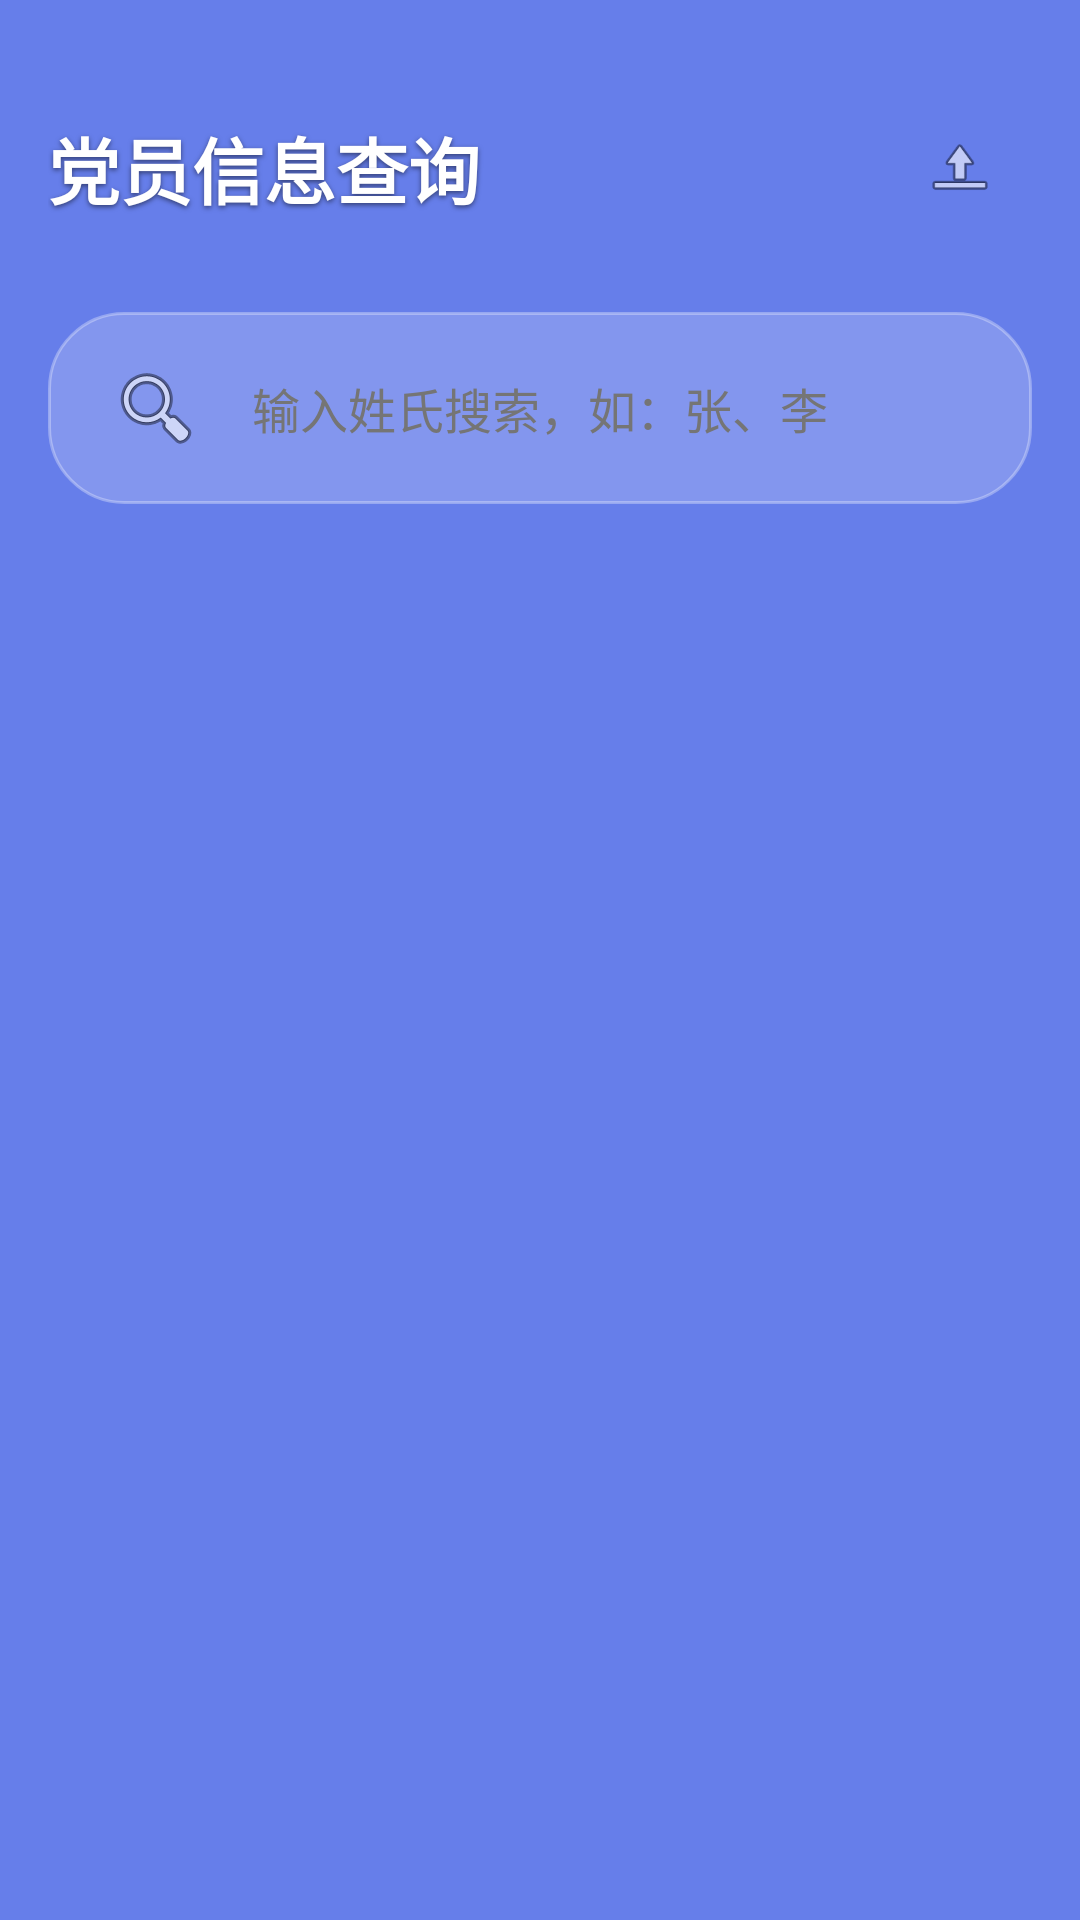

Icons on this 1080x1920 Android screen, each with the point to tap as (x,y):
导入数据: (960,167)
